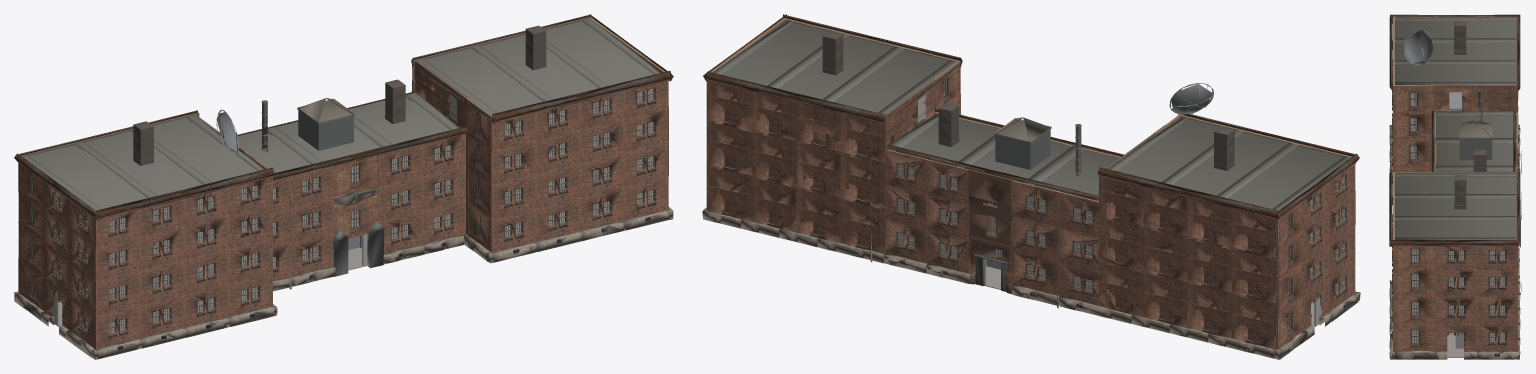
File: prison-block.zfix-v14.lod0.glb
3 views of the same model, side by side, from view 1: azimuth 30°, elevation 25°; view 2: azimuth 150°, elevation 25°; view 3: azimuth 270°, elevation 25° (orthographic). The views are drawn at different scales.
Parts seen in each view (by area): view 1: Jail_Build9_MAT_0, Jail_GLASS_Clear_m_0, Jail_Build7_MAT_0, Jail_grills_mat_0, Jail_Build8_MAT_0, Jail_Build1_MAT_0, Jail_Build4_MAT_0; view 2: Jail_Build1_MAT_0, Jail_GLASS_Clear_m_0, Jail_Build9_MAT_0, Jail_grills_mat_0, Jail_Build4_MAT_0, Jail_Build7_MAT_0, Jail_Build8_MAT_0; view 3: Jail_GLASS_Clear_m_0, Jail_Build9_MAT_0, Jail_Build7_MAT_0, Jail_grills_mat_0, Jail_Build1_MAT_0, Jail_Build8_MAT_0, Jail_Build4_MAT_0.
Part boxes in pixels (box(x1,y1,x2,y2)): Jail_Build9_MAT_0: box(44, 17, 668, 349); Jail_GLASS_Clear_m_0: box(23, 18, 660, 332); Jail_Build7_MAT_0: box(18, 54, 667, 310); Jail_grills_mat_0: box(14, 14, 673, 293); Jail_Build8_MAT_0: box(40, 210, 669, 359); Jail_Build1_MAT_0: box(21, 17, 590, 182); Jail_Build4_MAT_0: box(14, 207, 673, 359); Jail_Build1_MAT_0: box(707, 79, 1277, 349); Jail_GLASS_Clear_m_0: box(713, 21, 1350, 344); Jail_Build9_MAT_0: box(706, 18, 1355, 330); Jail_grills_mat_0: box(703, 14, 1359, 331); Jail_Build4_MAT_0: box(702, 210, 1360, 359); Jail_Build7_MAT_0: box(758, 19, 1303, 348); Jail_Build8_MAT_0: box(703, 207, 1357, 339); Jail_GLASS_Clear_m_0: box(1392, 16, 1521, 357); Jail_Build9_MAT_0: box(1392, 16, 1518, 351); Jail_Build7_MAT_0: box(1394, 16, 1515, 351); Jail_grills_mat_0: box(1389, 14, 1520, 343); Jail_Build1_MAT_0: box(1434, 16, 1518, 239); Jail_Build8_MAT_0: box(1389, 126, 1517, 359); Jail_Build4_MAT_0: box(1389, 124, 1520, 359).
Bounding box in the file's own units: 51.79 × 17.11 × 12.72.
Materials: 8 (7 with a texture image).
